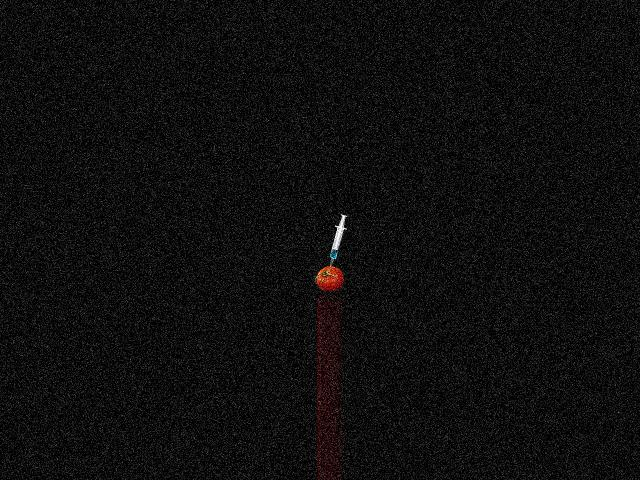tomato: (316, 266, 344, 291)
